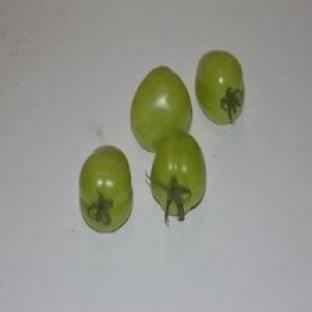Tomato: (131, 66, 192, 151), (150, 133, 206, 222), (80, 145, 132, 232), (195, 51, 243, 123)
